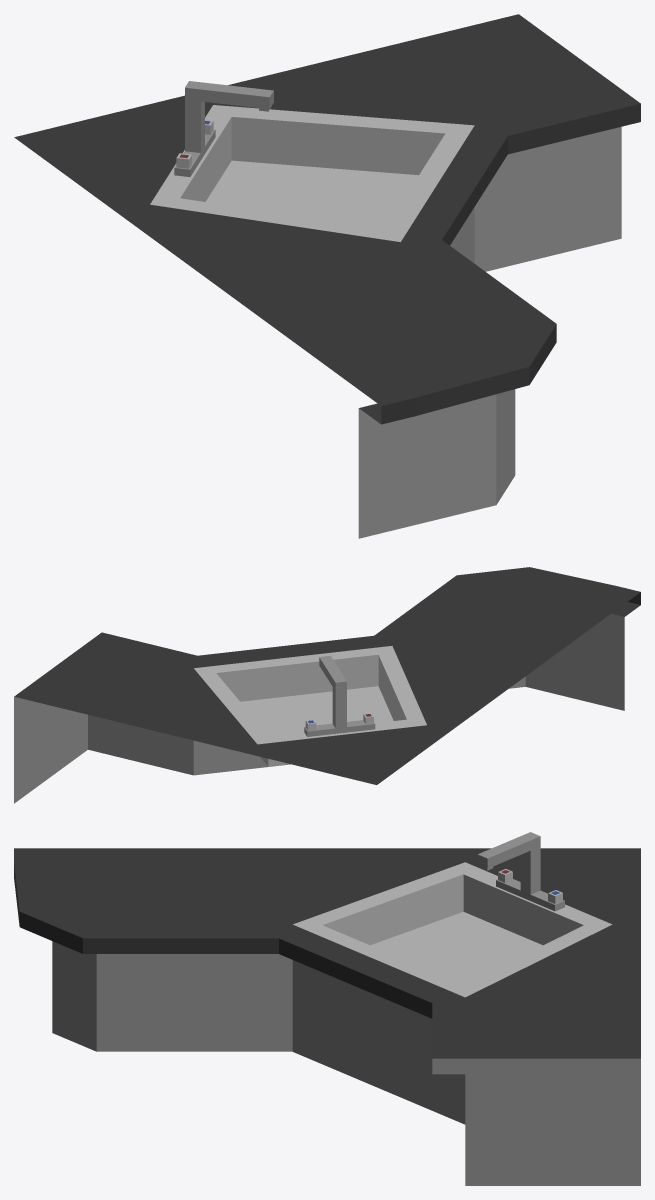
File: Commons_Kitchenette.fbx
The picture shows the model from 3 angles, top to bottom: view 1: azimuth 30°, elevation 25°; view 2: azimuth 150°, elevation 25°; view 3: azimuth 270°, elevation 25°; orthographic projection. The views are drawn at different scales.
Visible parts, largest first — view 1: Commons_Kitchenette; view 2: Commons_Kitchenette; view 3: Commons_Kitchenette.
Boxes of the visible parts, box(x1,y1,x2,y2) form: Commons_Kitchenette: box(14, 14, 640, 538); Commons_Kitchenette: box(14, 567, 640, 803); Commons_Kitchenette: box(14, 832, 640, 1185).
Bounding box in the file's own units: 1274 × 531 × 1606.
